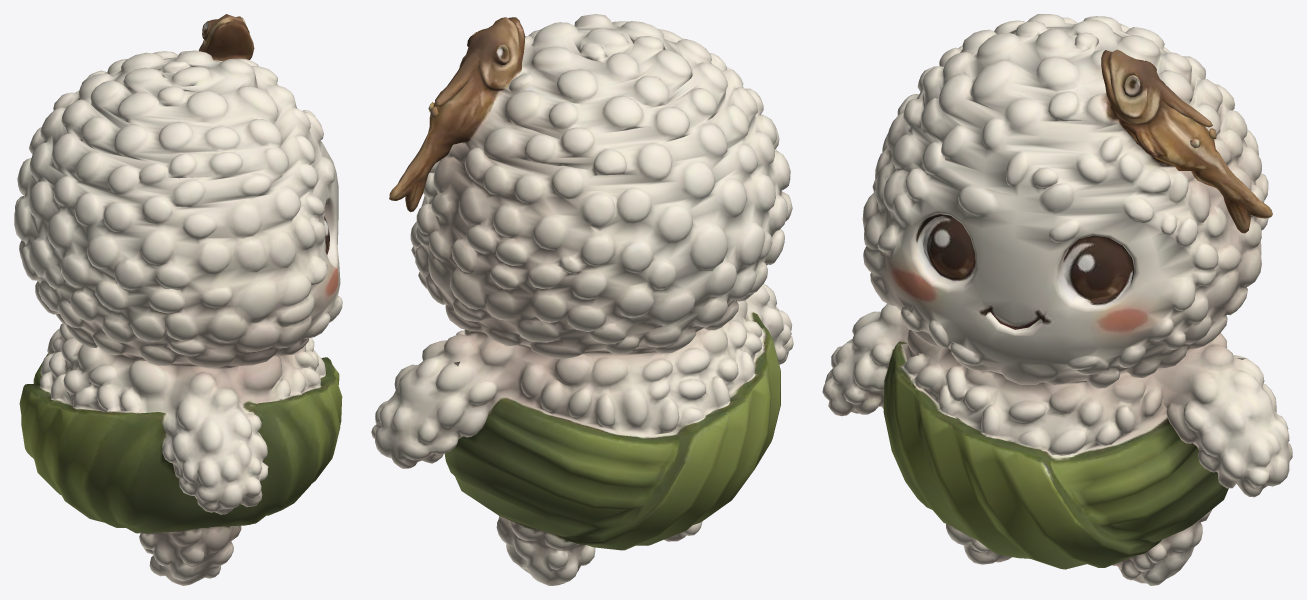
File: nasi-lemak-tot.glb
3 views of the same model, side by side, from view 1: azimuth 30°, elevation 25°; view 2: azimuth 150°, elevation 25°; view 3: azimuth 270°, elevation 25° (orthographic). The views are drawn at different scales.
Visible parts, largest first — view 1: tripo_node_012cf488-866c-4f7b-8730-7949931b5f8a; view 2: tripo_node_012cf488-866c-4f7b-8730-7949931b5f8a; view 3: tripo_node_012cf488-866c-4f7b-8730-7949931b5f8a.
Part boxes in pixels (x1,y1,x2,y2): tripo_node_012cf488-866c-4f7b-8730-7949931b5f8a: (14,14,342,585); tripo_node_012cf488-866c-4f7b-8730-7949931b5f8a: (371,14,793,585); tripo_node_012cf488-866c-4f7b-8730-7949931b5f8a: (822,14,1292,585).
Size of the model in its own units: 0.5967 by 0.998 by 0.7546.
Materials: 1 (1 with a texture image).
